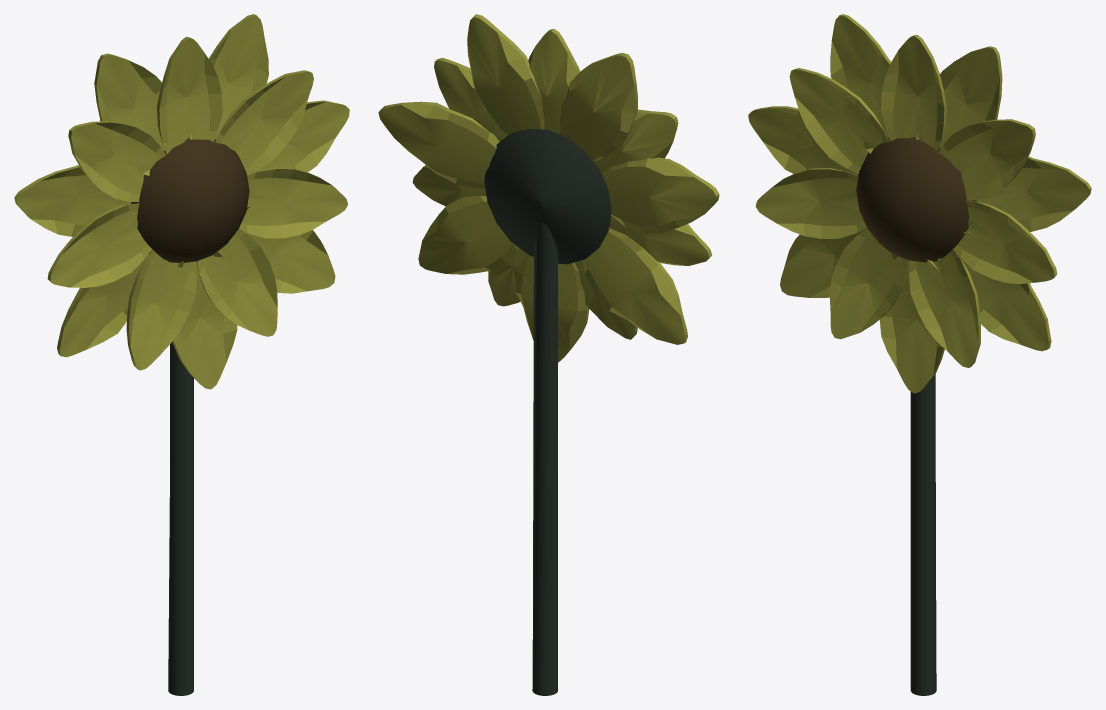
File: sunflower.obj
3 views of the same model, side by side, from view 1: azimuth 30°, elevation 25°; view 2: azimuth 150°, elevation 25°; view 3: azimuth 330°, elevation 25° (orthographic).
Parts seen in each view (by area): view 1: sunflower centre, sunflower stem, petals sunflower petal20, petals sunflower petal19, petals sunflower petal18, petals sunflower petal17, petals sunflower petal21, petal16 petals sunflower, petals sunflower petal22, petals sunflower petal28, petals sunflower petal27, petals sunflower petal26 (+4 smaller); view 2: sunflower centre, sunflower stem, petals sunflower petal29, petals sunflower petal28, petals sunflower petal25, petals sunflower petal27, petals sunflower petal23, petals sunflower petal24, petals sunflower petal26, petal16 petals sunflower, petals sunflower petal22, petals sunflower petal21 (+4 smaller); view 3: sunflower centre, sunflower stem, petals sunflower petal21, petals sunflower petal20, petals sunflower petal22, petals sunflower petal19, petal16 petals sunflower, petals sunflower petal18, petals sunflower petal17, petals sunflower petal25, petals sunflower petal23, petals sunflower petal24 (+4 smaller).
Part boxes in pixels (x1,y1,x2,y2): sunflower centre: [131, 138, 249, 262]; sunflower stem: [168, 342, 193, 695]; petals sunflower petal20: [126, 250, 196, 370]; petals sunflower petal19: [197, 229, 277, 336]; petals sunflower petal18: [239, 167, 347, 238]; petals sunflower petal17: [215, 70, 313, 175]; petals sunflower petal21: [47, 203, 152, 287]; petal16 petals sunflower: [157, 36, 222, 154]; petals sunflower petal22: [68, 121, 165, 201]; petals sunflower petal28: [14, 165, 142, 236]; petals sunflower petal27: [94, 53, 178, 175]; petals sunflower petal26: [172, 251, 237, 389]; sunflower centre: [484, 129, 611, 264]; sunflower stem: [532, 200, 557, 695]; petals sunflower petal29: [582, 228, 687, 344]; petals sunflower petal28: [602, 157, 719, 233]; petals sunflower petal25: [378, 101, 499, 188]; petals sunflower petal27: [559, 53, 637, 161]; petals sunflower petal23: [467, 14, 544, 134]; petals sunflower petal24: [418, 196, 518, 274]; petals sunflower petal26: [515, 253, 589, 362]; petal16 petals sunflower: [528, 29, 580, 134]; petals sunflower petal22: [594, 109, 678, 172]; petals sunflower petal21: [609, 216, 711, 265]; sunflower centre: [856, 137, 976, 262]; sunflower stem: [910, 374, 936, 695]; petals sunflower petal21: [755, 168, 866, 238]; petals sunflower petal20: [829, 228, 908, 339]; petals sunflower petal22: [789, 68, 889, 174]; petals sunflower petal19: [909, 249, 980, 367]; petal16 petals sunflower: [880, 34, 946, 151]; petals sunflower petal18: [953, 201, 1057, 284]; petals sunflower petal17: [938, 119, 1035, 200]; petals sunflower petal25: [976, 156, 1091, 231]; petals sunflower petal23: [916, 46, 1002, 164]; petals sunflower petal24: [937, 231, 1051, 351].
Size of the model in its own units: 3.45 by 6.44 by 0.6158.
